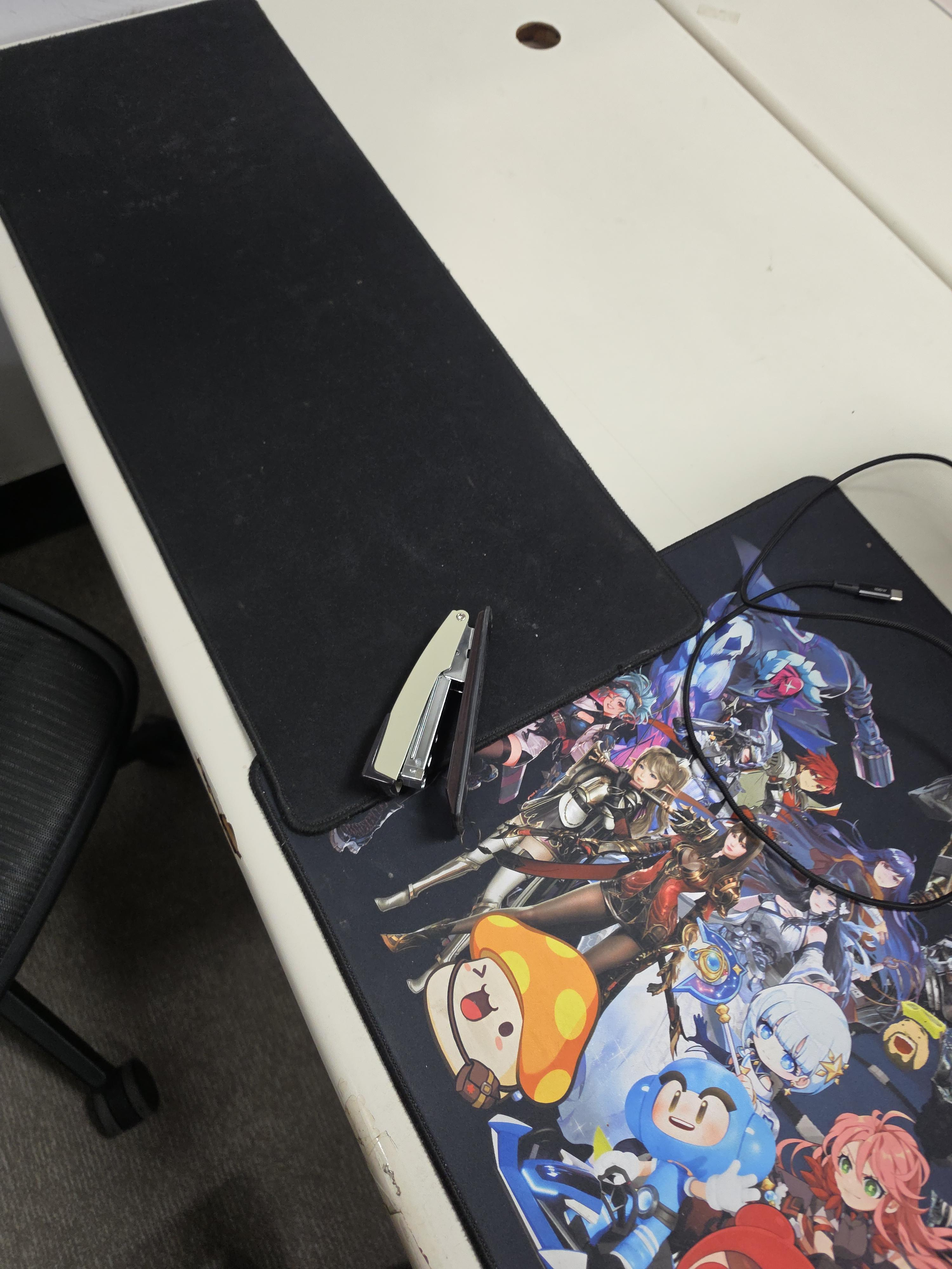stapler: (361, 605, 493, 838)
